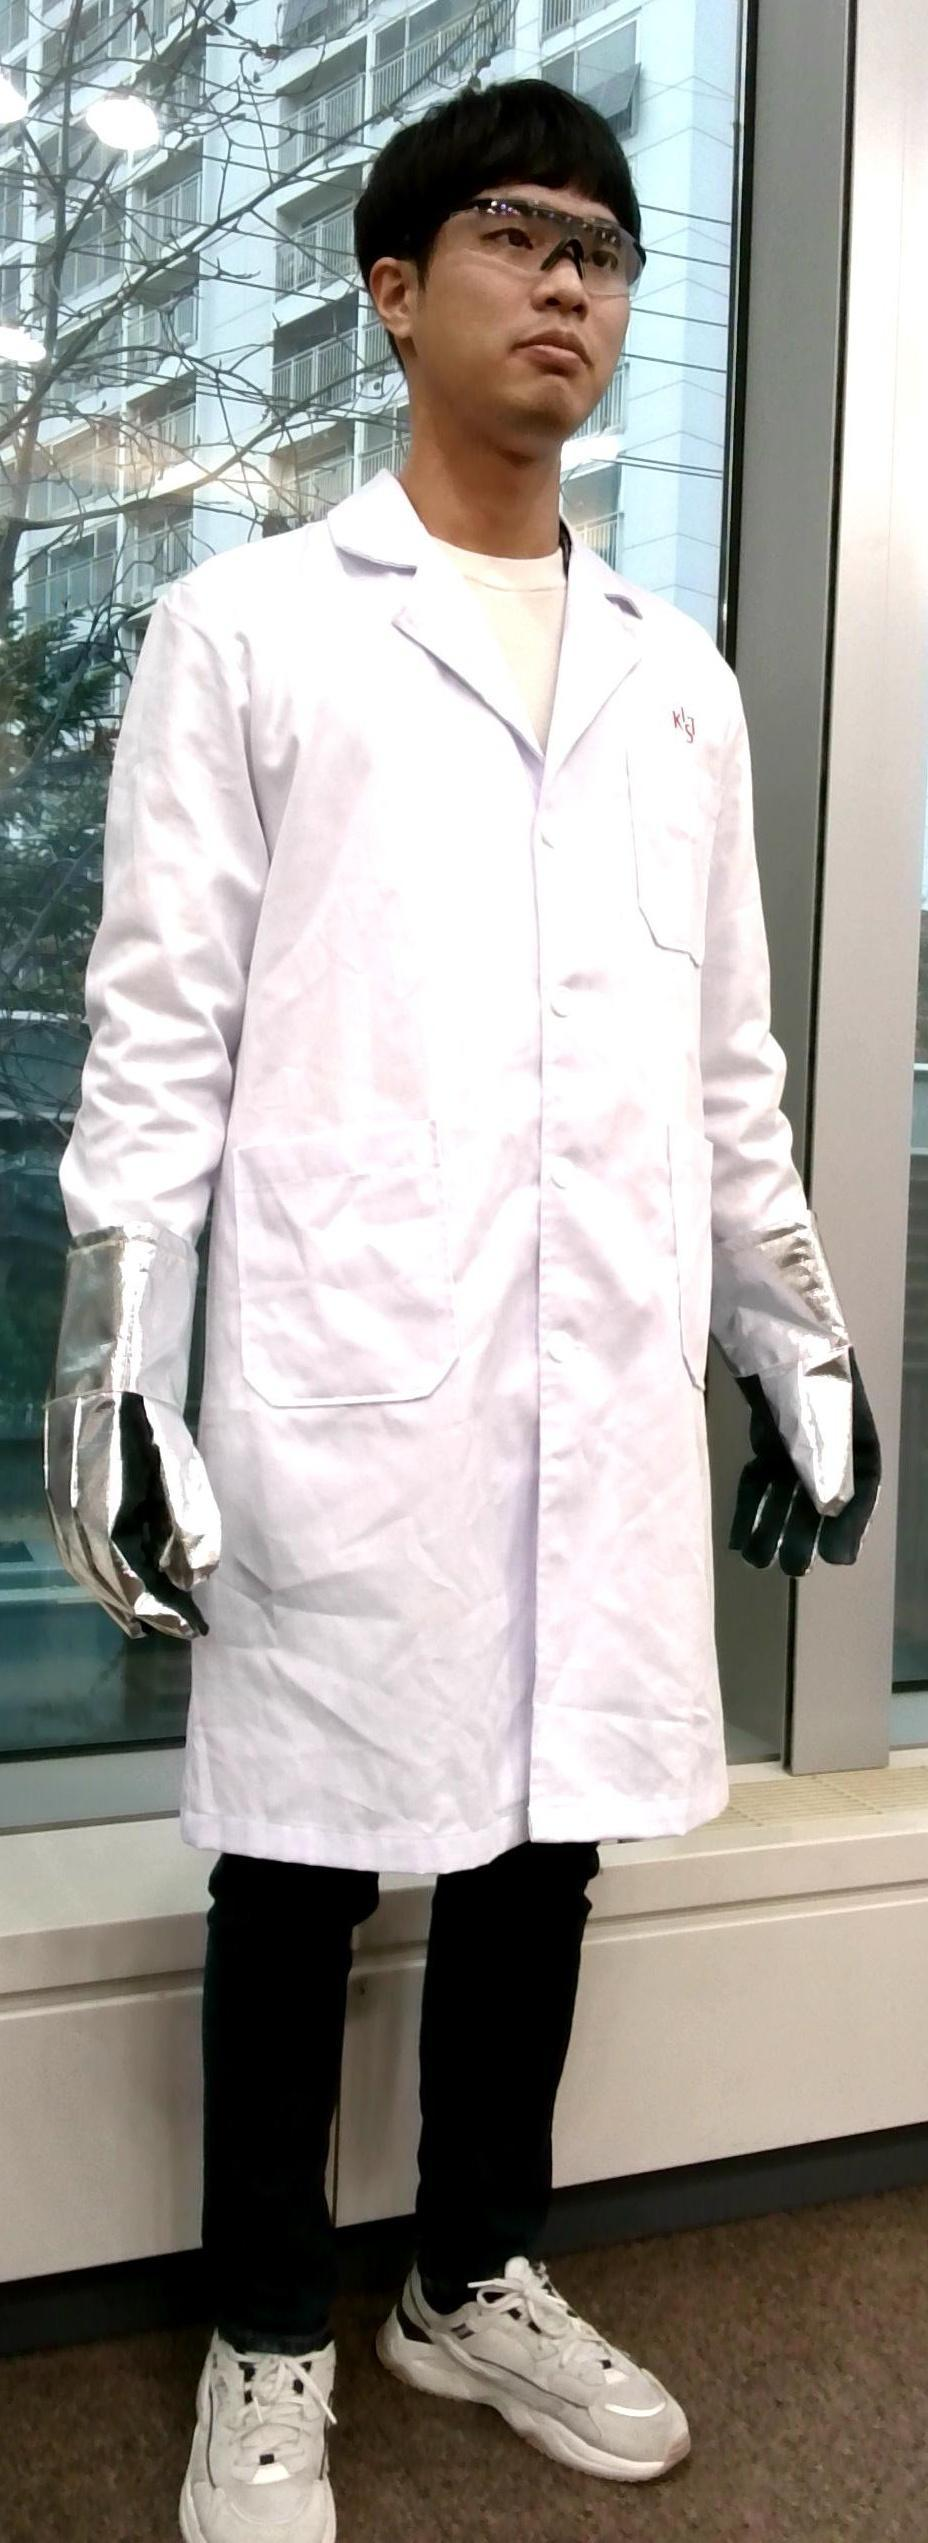lab_coat: (206, 566, 743, 1875)
